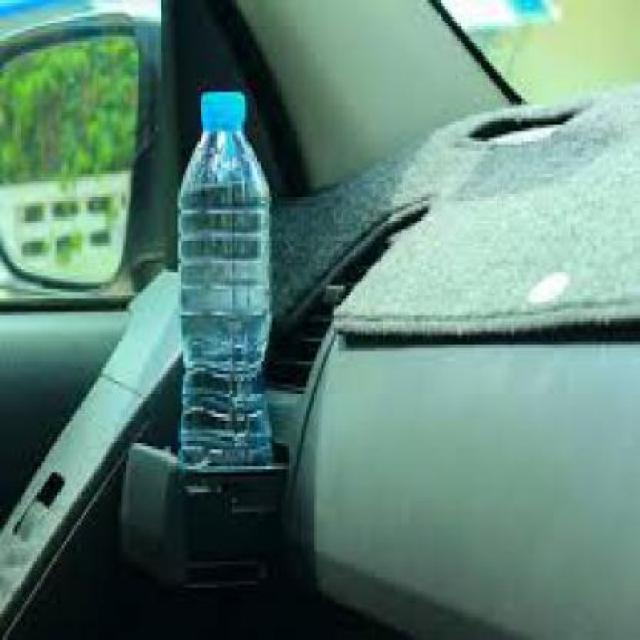Drinking: (166, 71, 292, 502)
